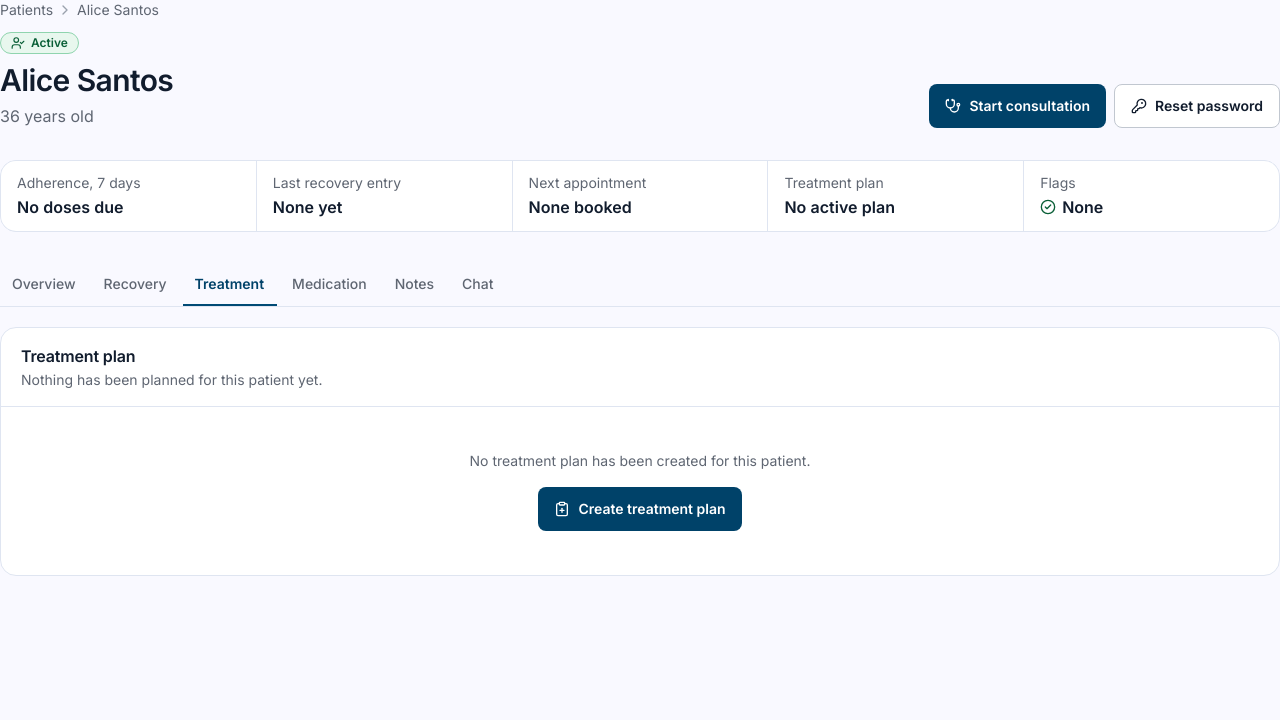
authoring from the patient record › opens the plan form from that empty state
Click the button "Create treatment plan": (640, 509) [538, 487, 742, 531]
(page scrolled)
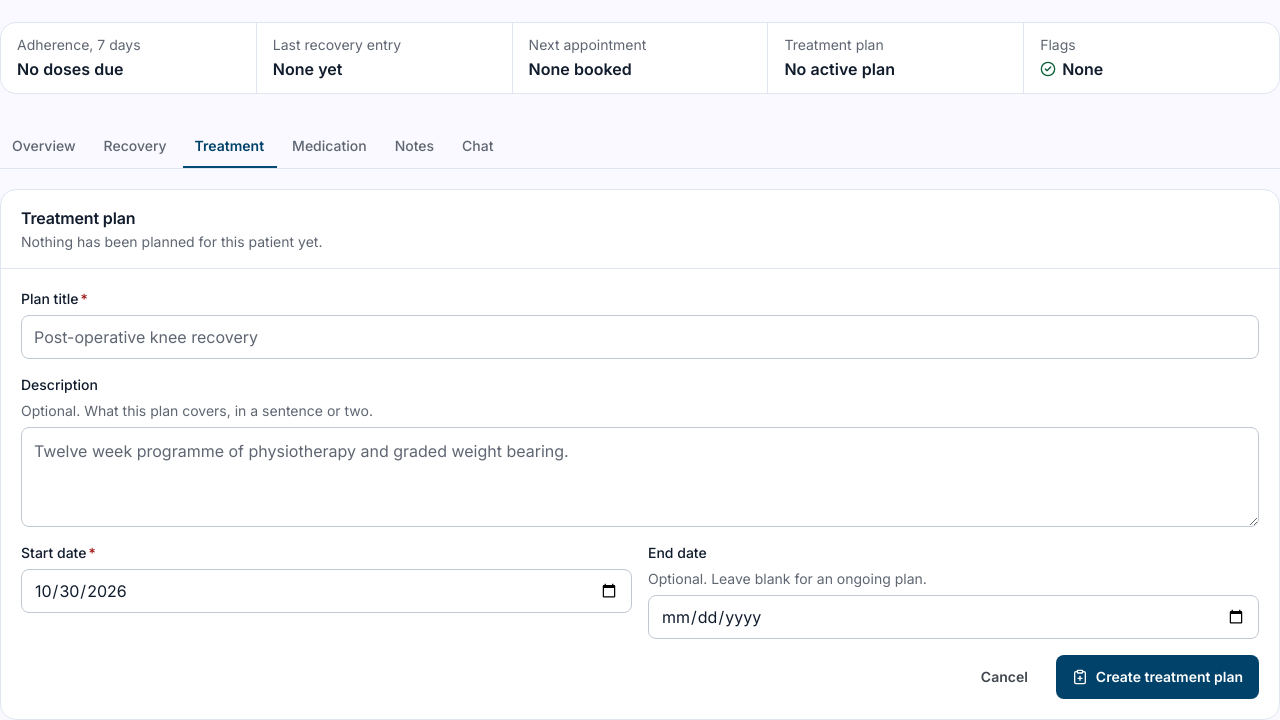
Check: the field labelled "Plan title*" is shown, box [21, 315, 1259, 359]
Check: the date field labelled "Start date*" is shown, box [21, 569, 632, 613]
